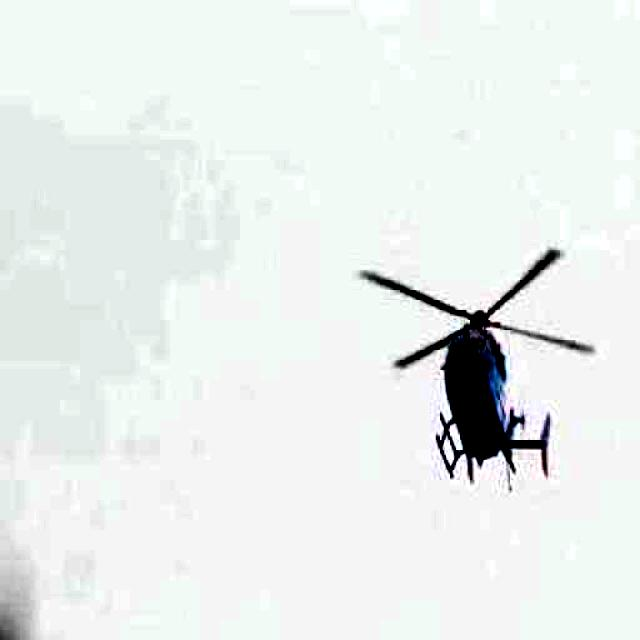drone: (334, 210, 620, 524)
